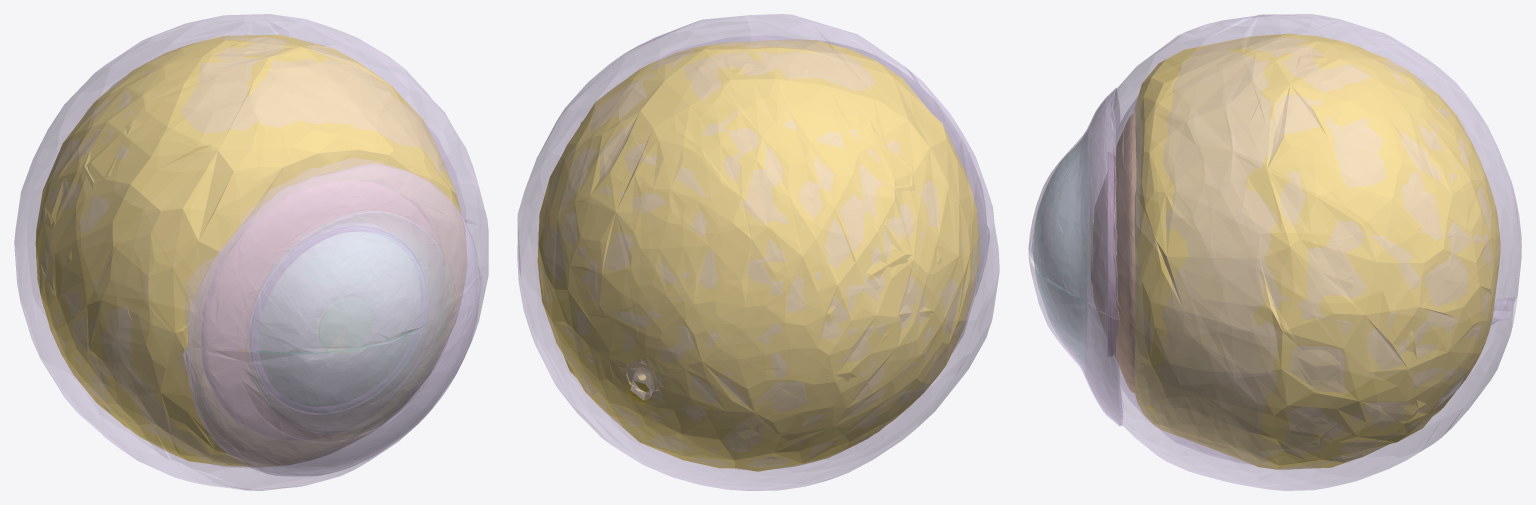
The model's file is organ-eye.glb.
3 renders of one model, left to right at view 1: azimuth 30°, elevation 25°; view 2: azimuth 150°, elevation 25°; view 3: azimuth 270°, elevation 25°, orthographic.
Parts seen in each view (by area): view 1: sclera, optic-choroid, palpebral-conjunctiva-of-left-upper-eyelid, cornea, palpebral-conjunctiva-of-left-lower-eyelid, bulbar-conjunctiva, ciliary-body, trabecular-meshwork, schlemms-canal; view 2: sclera, optic-choroid, bulbar-conjunctiva, retina, optic-disc; view 3: sclera, optic-choroid, palpebral-conjunctiva-of-left-upper-eyelid, bulbar-conjunctiva, cornea, palpebral-conjunctiva-of-left-lower-eyelid, ciliary-body, iris, retina, trabecular-meshwork.
Part boxes in pixels (x1,y1,x2,y2): sclera: (14, 14, 488, 490); optic-choroid: (35, 34, 466, 466); palpebral-conjunctiva-of-left-upper-eyelid: (187, 165, 479, 352); cornea: (248, 210, 451, 433); palpebral-conjunctiva-of-left-lower-eyelid: (183, 276, 481, 476); bulbar-conjunctiva: (185, 164, 480, 474); ciliary-body: (202, 181, 443, 440); trabecular-meshwork: (253, 227, 421, 411); schlemms-canal: (251, 225, 427, 414); sclera: (517, 14, 999, 490); optic-choroid: (537, 39, 979, 471); bulbar-conjunctiva: (816, 40, 987, 291); retina: (542, 44, 941, 464); optic-disc: (627, 362, 656, 391); sclera: (1104, 14, 1521, 490); optic-choroid: (1134, 33, 1500, 469); palpebral-conjunctiva-of-left-upper-eyelid: (1028, 89, 1118, 320); bulbar-conjunctiva: (1086, 87, 1123, 425); cornea: (1034, 134, 1089, 365); palpebral-conjunctiva-of-left-lower-eyelid: (1028, 236, 1120, 426); ciliary-body: (1115, 112, 1136, 392); iris: (1093, 156, 1115, 354); retina: (1141, 51, 1450, 458); trabecular-meshwork: (1110, 153, 1113, 355).
Size of the model in its own units: 0.0245 by 0.0246 by 0.0253.
